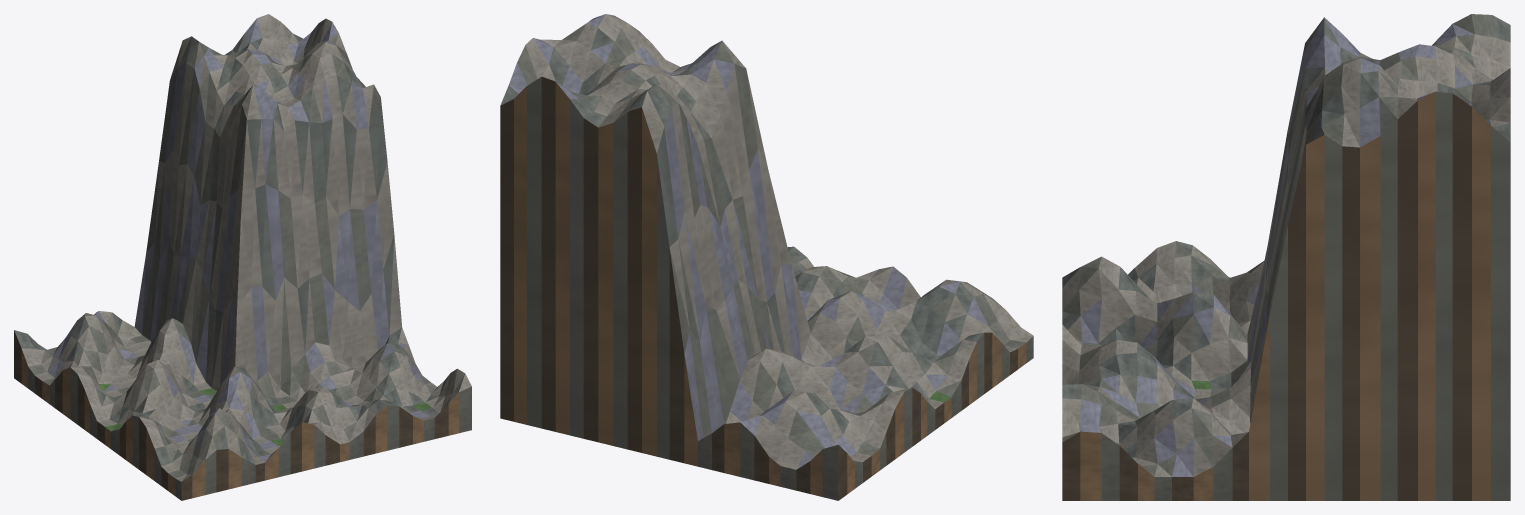
Rendered from cliff_wall_corner_in.fbx.
The picture shows the model from 3 angles, left to right: view 1: azimuth 30°, elevation 25°; view 2: azimuth 150°, elevation 25°; view 3: azimuth 270°, elevation 25°; orthographic projection. The views are drawn at different scales.
Visible parts, largest first — view 1: cliff_wall_corner_in; view 2: cliff_wall_corner_in; view 3: cliff_wall_corner_in.
Part boxes in pixels (x1,y1,x2,y2): cliff_wall_corner_in: [14, 14, 471, 500]; cliff_wall_corner_in: [500, 14, 1033, 500]; cliff_wall_corner_in: [1062, 14, 1510, 500].
Size of the model in its own units: 1400 by 1450 by 1400.
1 material, 1 textured.
